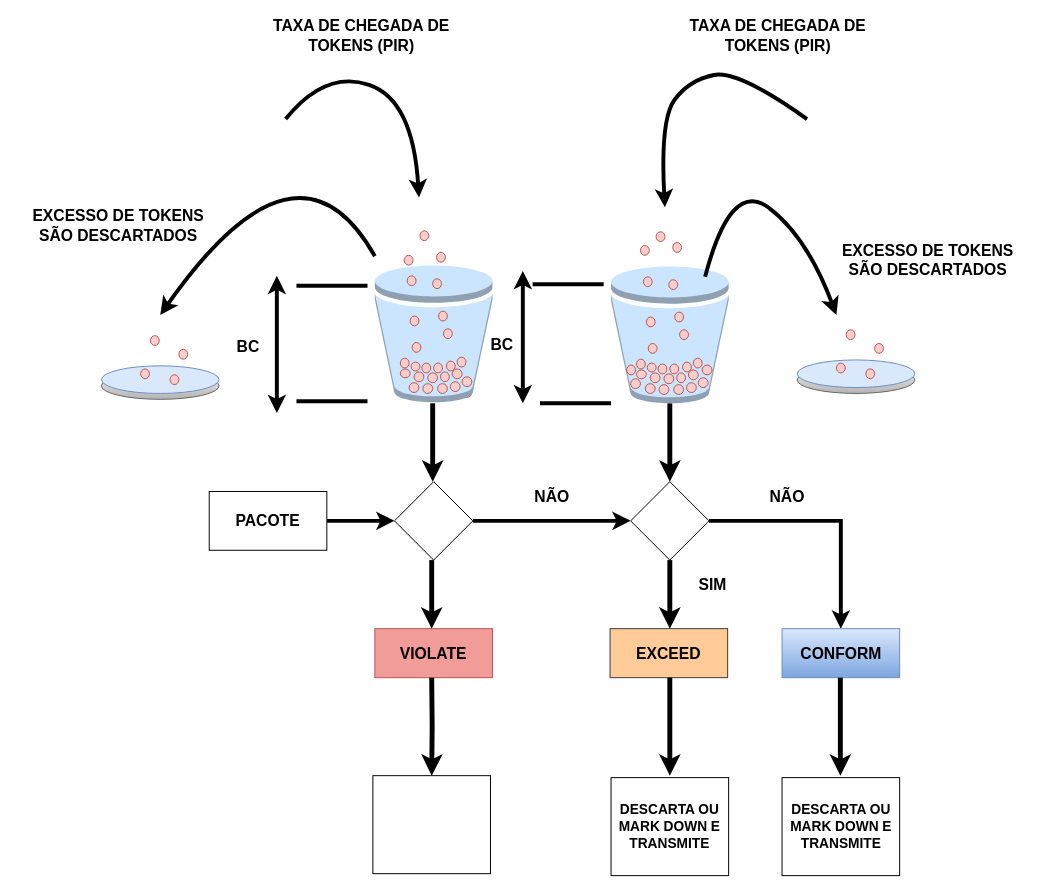
Some shapes in this 1046 by 893 pixel diagram are drawn without their labels. Here are the shapes that lost their labels. From the top down, the box of each, then its label:
(393, 481, 473, 560): B > TP
(630, 481, 709, 560): B > Tc
(372, 775, 490, 874): TRANSMITE OU REMARCA E TRANSMITE
